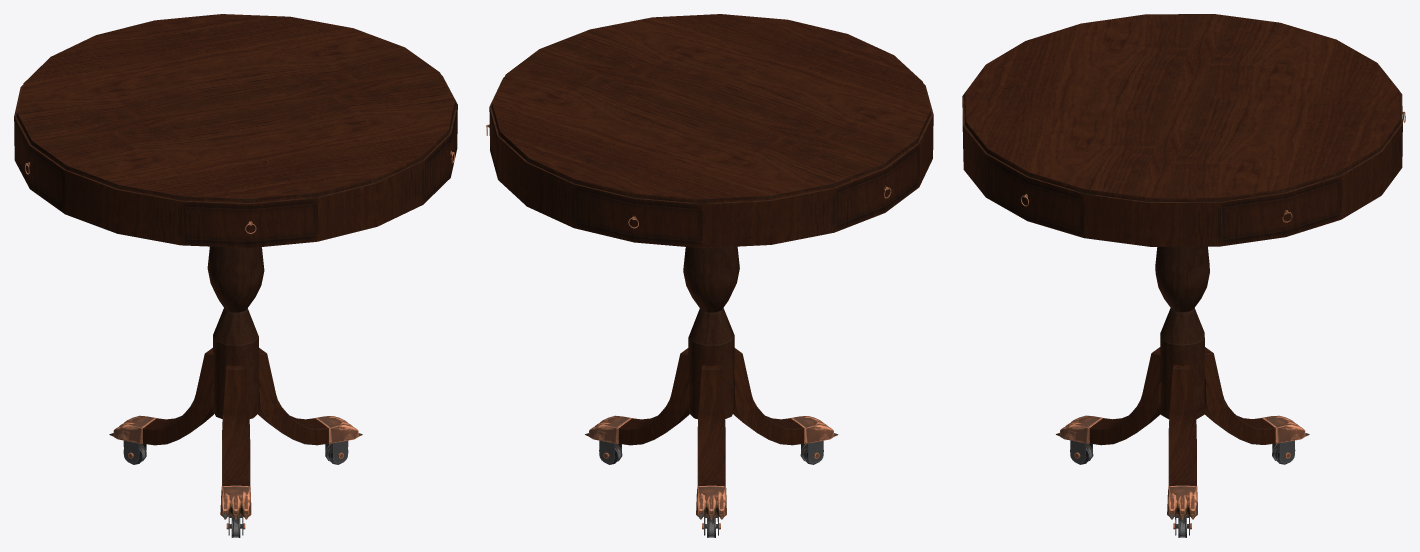
The model's file is small_table.glb.
3 views of the same model, side by side, from view 1: azimuth 30°, elevation 25°; view 2: azimuth 150°, elevation 25°; view 3: azimuth 270°, elevation 25° (orthographic).
Parts seen in each view (by area): view 1: Object_2; view 2: Object_2; view 3: Object_2.
Boxes of the visible parts, x1,y1,x2,y2 form: Object_2: (14, 14, 457, 537); Object_2: (486, 14, 933, 537); Object_2: (962, 14, 1405, 537).
Size of the model in its own units: 1.05 by 0.9974 by 1.05.
1 material, 1 textured.
